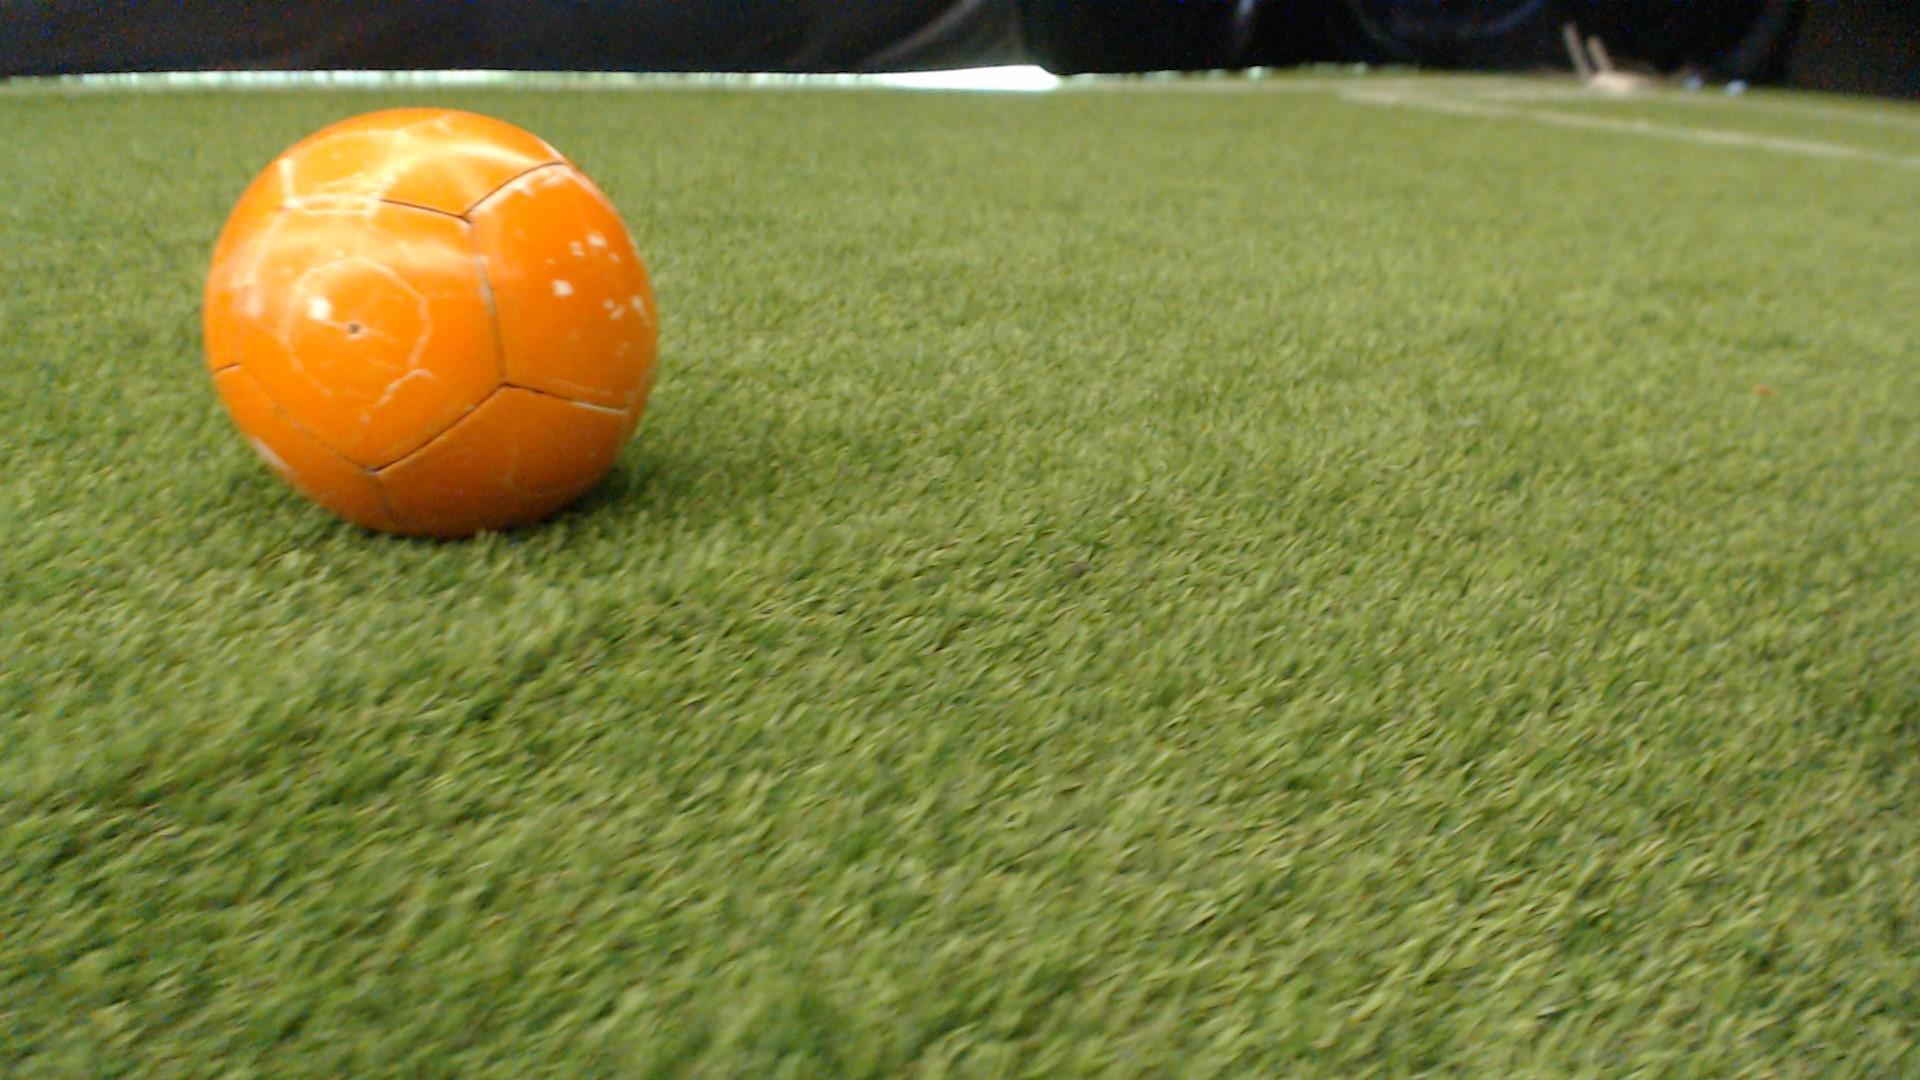bola: (184, 49, 706, 575)
